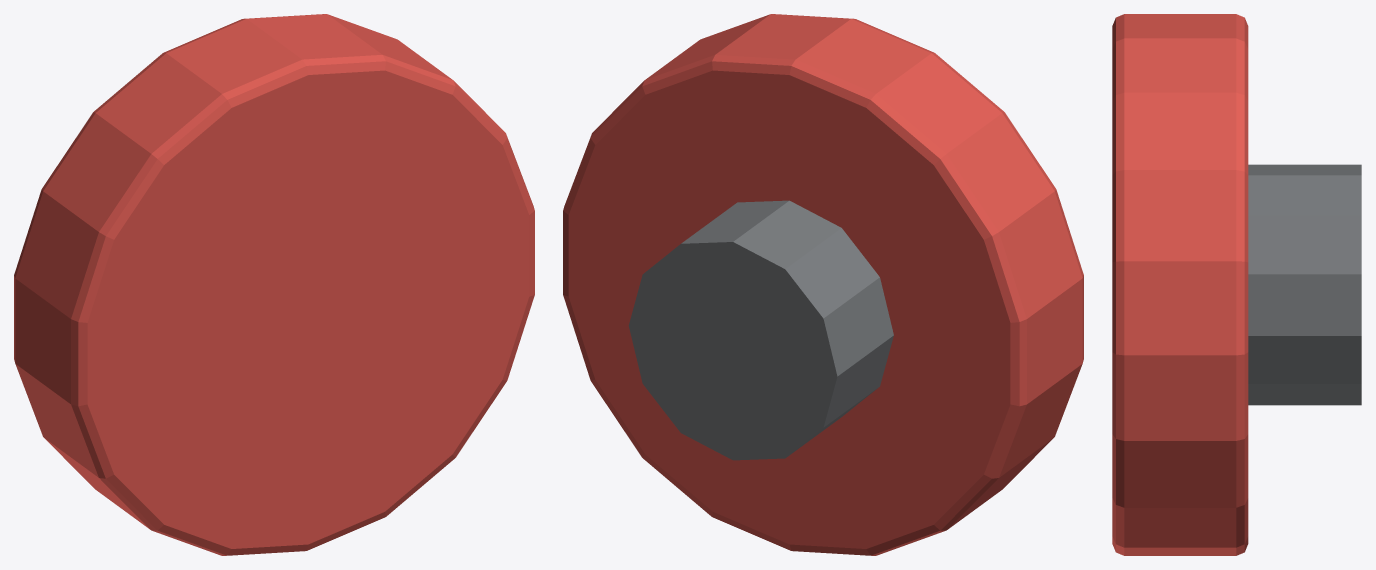
File: fire-alarm-bell.glb
3 renders of one model, left to right at view 1: azimuth 30°, elevation 25°; view 2: azimuth 150°, elevation 25°; view 3: azimuth 270°, elevation 25°, orthographic.
Visible parts, largest first — view 1: Dome.002; view 2: Dome.002, Base.002; view 3: Dome.002, Base.002.
Boxes of the visible parts, <box> form: Dome.002: <box>14,14,534,555</box>; Dome.002: <box>563,14,1083,555</box>; Base.002: <box>628,200,893,460</box>; Dome.002: <box>1112,14,1248,555</box>; Base.002: <box>1248,164,1361,405</box>.
Bounding box in the file's own units: 0.1773 × 0.18 × 0.0825.
